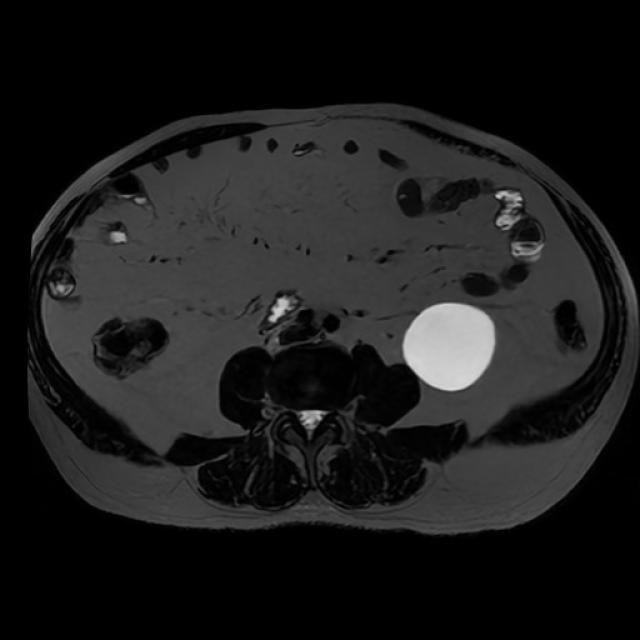sol: (399, 300, 497, 394)
